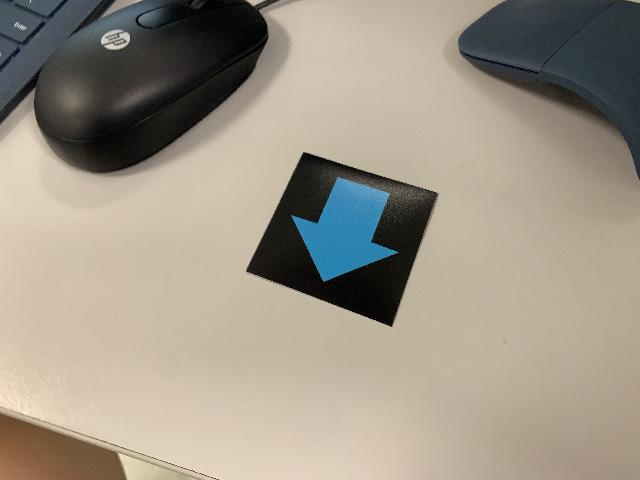down: (241, 150, 442, 338)
